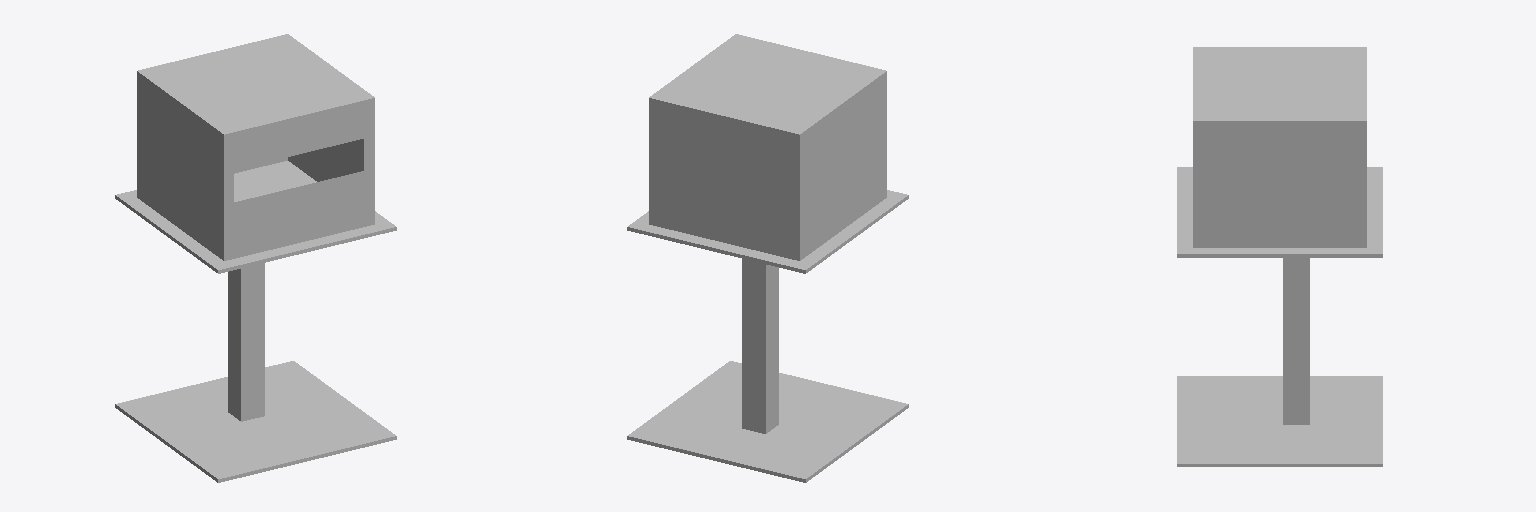
File: Mail box 002.obj
3 views of the same model, side by side, from view 1: azimuth 30°, elevation 25°; view 2: azimuth 150°, elevation 25°; view 3: azimuth 270°, elevation 25° (orthographic).
Visible parts, largest first — view 1: pCube50; view 2: pCube50; view 3: pCube50.
Boxes of the visible parts, x1=… form: pCube50: x1=115, y1=34, x2=396, y2=482; pCube50: x1=627, y1=34, x2=908, y2=482; pCube50: x1=1177, y1=47, x2=1382, y2=466.
Bounding box in the file's own units: 0.0386 × 0.0711 × 0.0386.